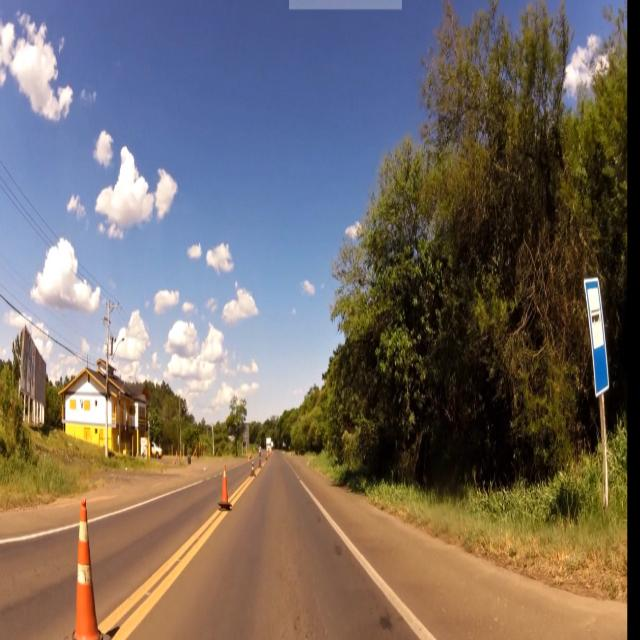S-14: (584, 273, 615, 401)
